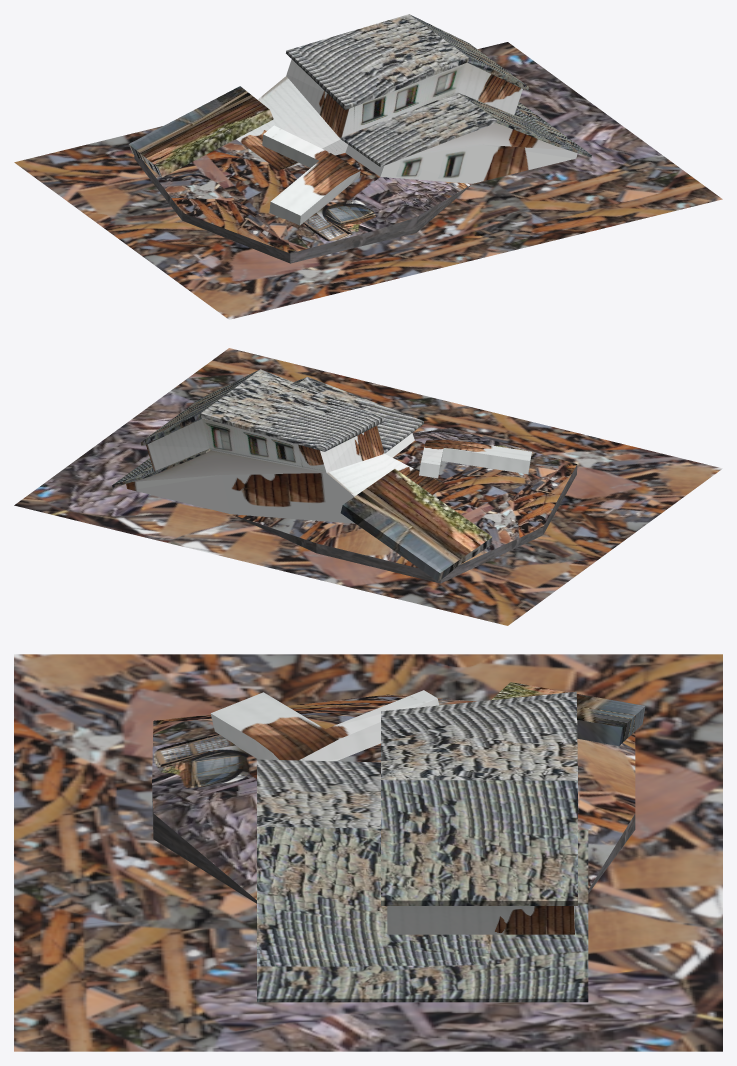
Rendered from ieyugami3.obj.
The picture shows the model from 3 angles, top to bottom: view 1: azimuth 30°, elevation 25°; view 2: azimuth 150°, elevation 25°; view 3: azimuth 270°, elevation 25°; orthographic projection. The views are drawn at different scales.
Parts seen in each view (by area): view 1: Plane; view 2: Plane; view 3: Plane.
Part boxes in pixels (left/top/right/bottom): Plane: left=14, top=14, right=722, bottom=319; Plane: left=14, top=348, right=722, bottom=625; Plane: left=14, top=654, right=722, bottom=1051.
Bounding box in the file's own units: 24.94 × 4.67 × 18.82.
Materials: 1 (1 with a texture image).
